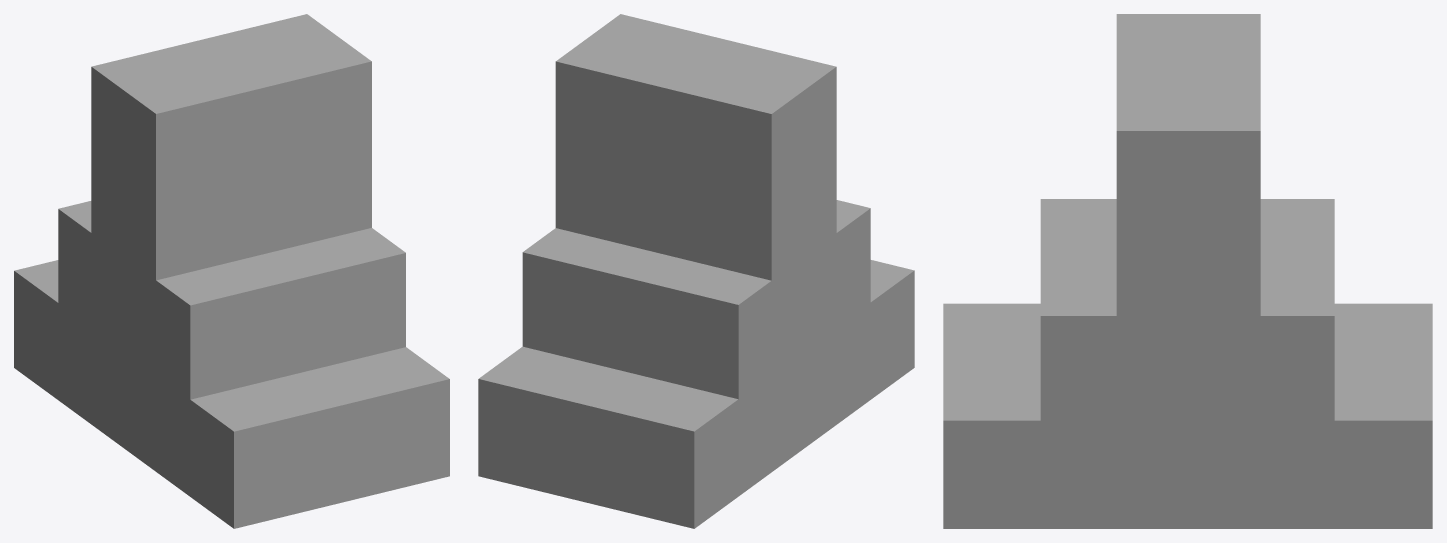
The model's file is DEKI_COL.glb.
3 renders of one model, left to right at view 1: azimuth 30°, elevation 25°; view 2: azimuth 150°, elevation 25°; view 3: azimuth 270°, elevation 25°, orthographic. The views are drawn at different scales.
Parts seen in each view (by area): view 1: COL_R1, COL_TOP, COL_L1, COL_R0, COL_L0, COL_R2, COL_LAST; view 2: COL_R1, COL_LAST, COL_L1, COL_R2, COL_L2, COL_R0, COL_TOP; view 3: COL_L1, COL_L0, COL_L2, COL_TOP, COL_LAST, COL_R1, COL_R0, COL_R2.
Part boxes in pixels (x1,y1,x2,y2): COL_R1: (91, 40, 263, 471); COL_TOP: (210, 362, 449, 528); COL_L1: (199, 14, 371, 253); COL_R0: (156, 254, 317, 511); COL_L0: (264, 228, 425, 387); COL_R2: (37, 201, 91, 423); COL_LAST: (14, 260, 58, 384); COL_R1: (663, 40, 836, 471); COL_LAST: (478, 362, 717, 528); COL_L1: (555, 14, 727, 254); COL_R2: (610, 254, 771, 511); COL_L2: (502, 228, 663, 387); COL_R0: (836, 200, 890, 424); COL_TOP: (870, 260, 914, 384); COL_L1: (1116, 72, 1260, 528); COL_L0: (996, 257, 1116, 528); COL_L2: (1260, 257, 1380, 528); COL_TOP: (943, 303, 995, 528); COL_LAST: (1381, 303, 1432, 528); COL_R1: (1116, 14, 1260, 72); COL_R0: (996, 199, 1116, 362); COL_R2: (1260, 199, 1380, 362).
Size of the model in its own units: 5 by 7.93 by 8.83.
8 materials, 8 textured.
